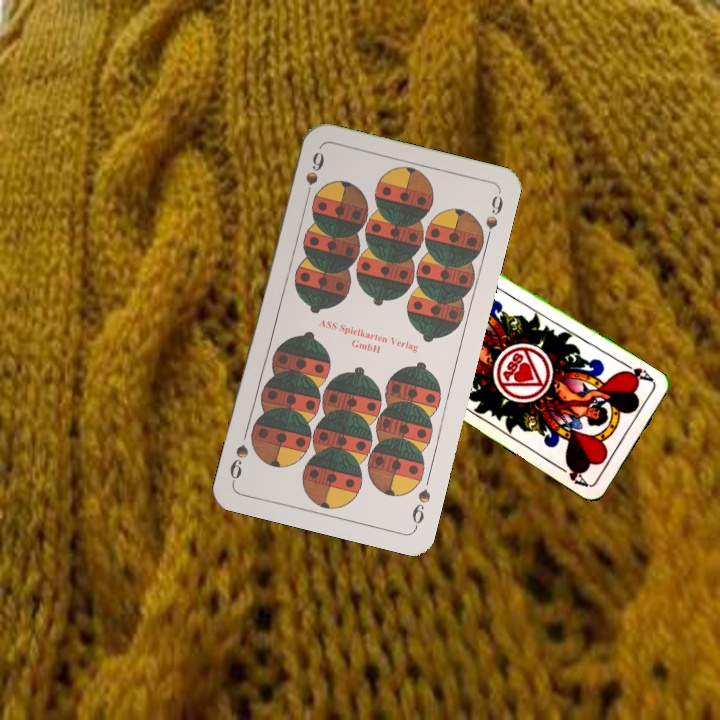HA: (618, 358, 657, 385)
S9: (301, 148, 327, 204), (407, 485, 433, 530)
